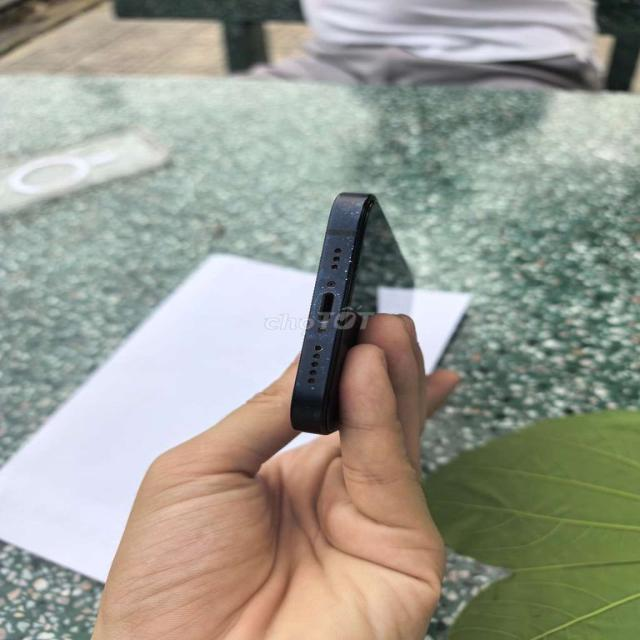gen_12_13: (271, 188, 420, 452)
scratch: (320, 204, 373, 292)
